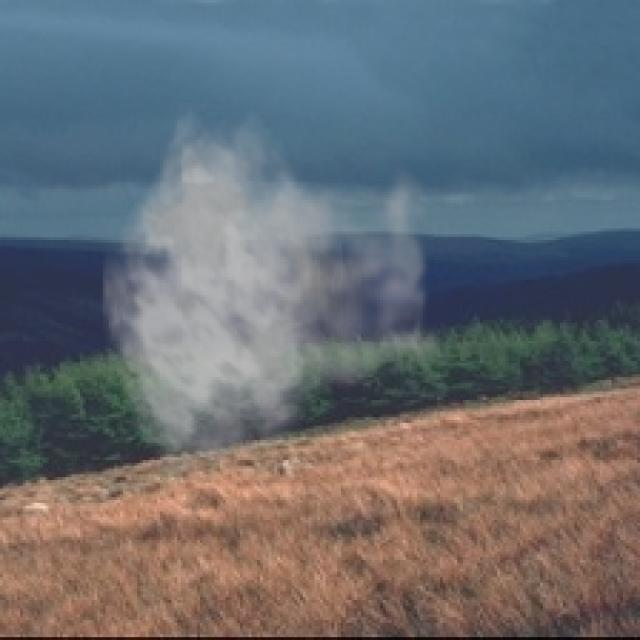Smoke: (100, 102, 460, 478)
